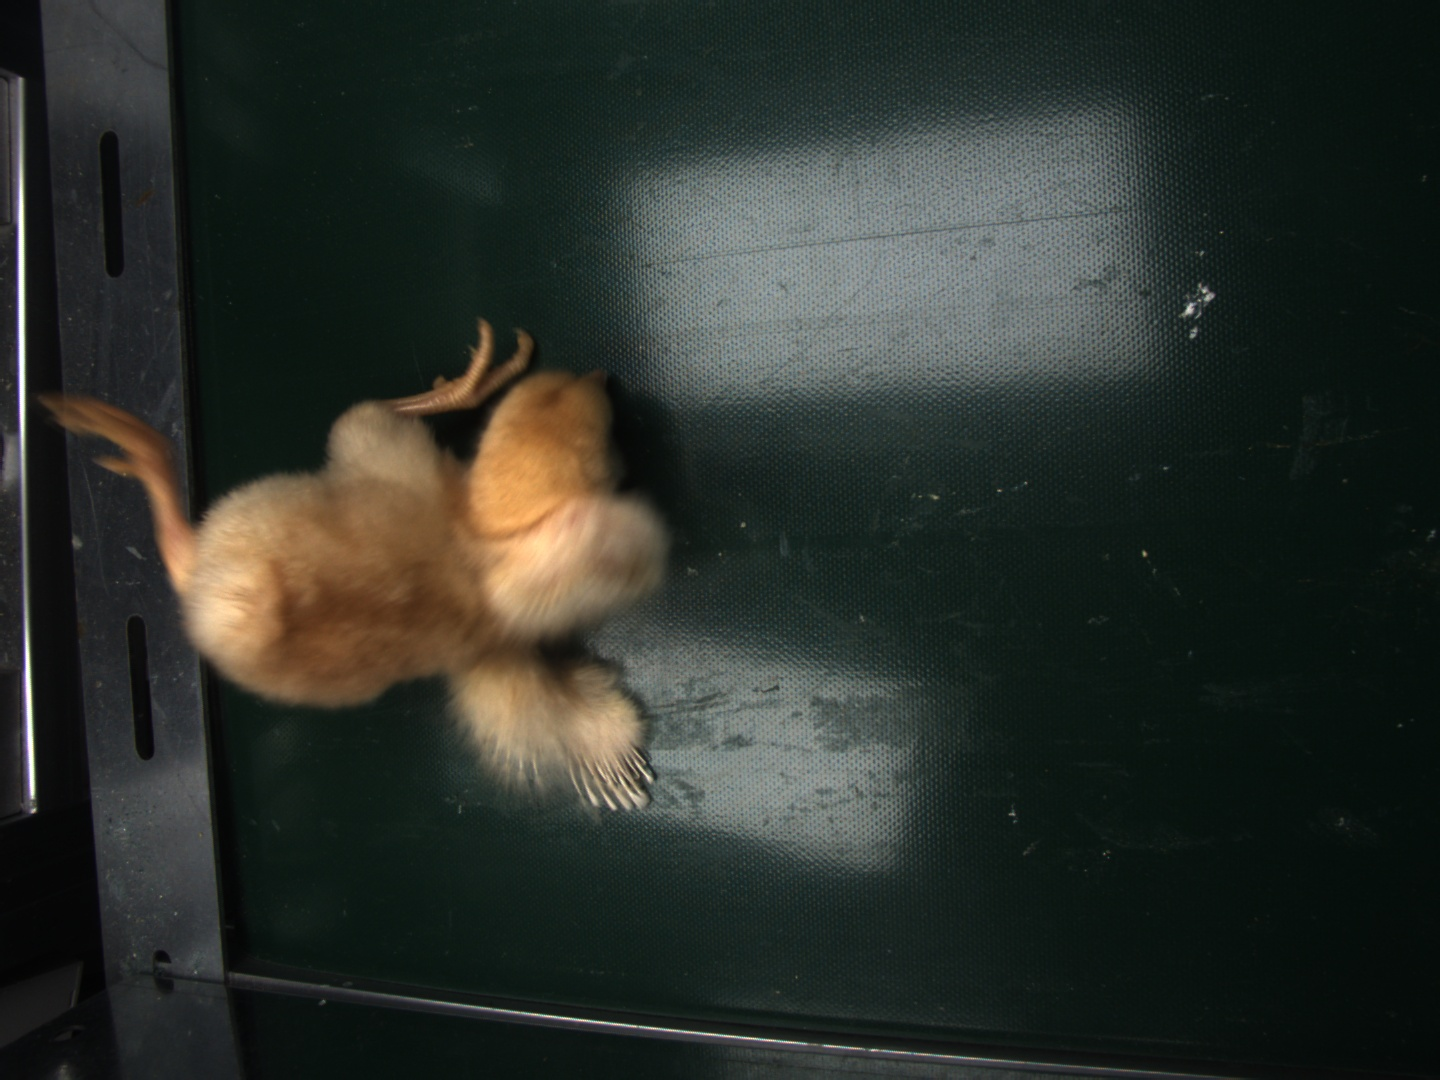female: (571, 748, 655, 812)
